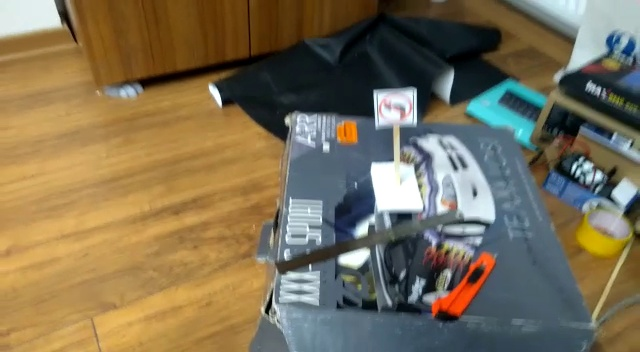sola_donulmez: (380, 91, 414, 126)
